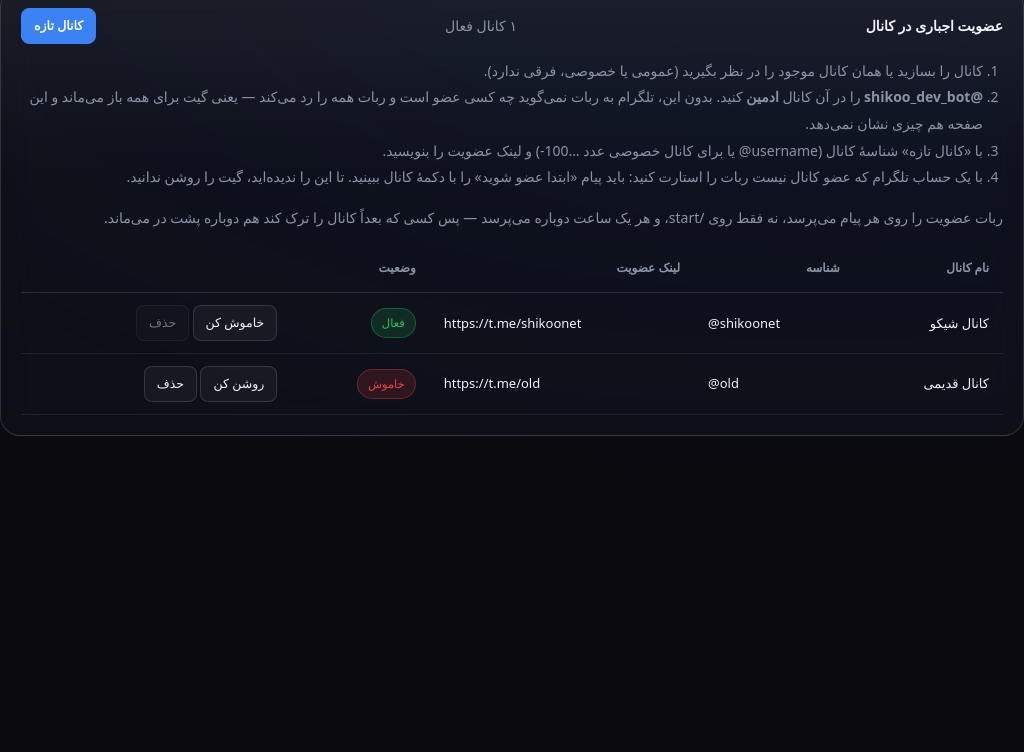
Test: عضویت اجباری در کانال › adds a channel only with a shape Telegram accepts
Check: the text "کانال شیکو" is shown, box [854,293,1003,353]
Click the button "کانال تازه" at (59, 26), box [21,8,96,44]
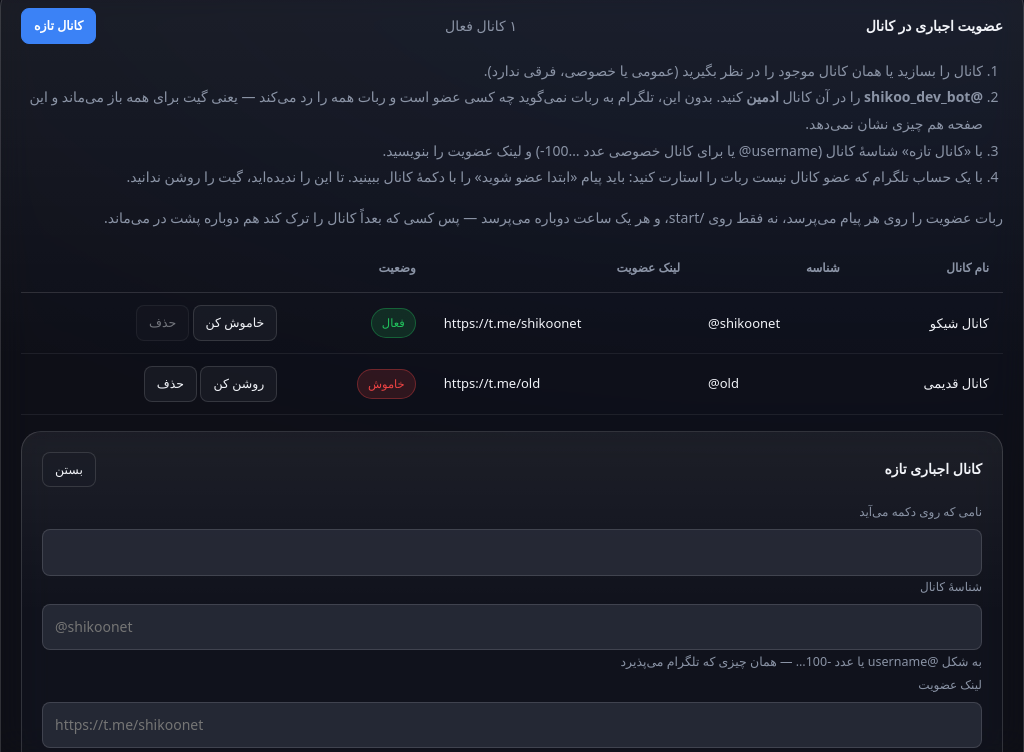
Type "کانال ما" into the field labelled "نامی که روی دکمه می‌آید" at (512, 552), box [42,529,982,576]
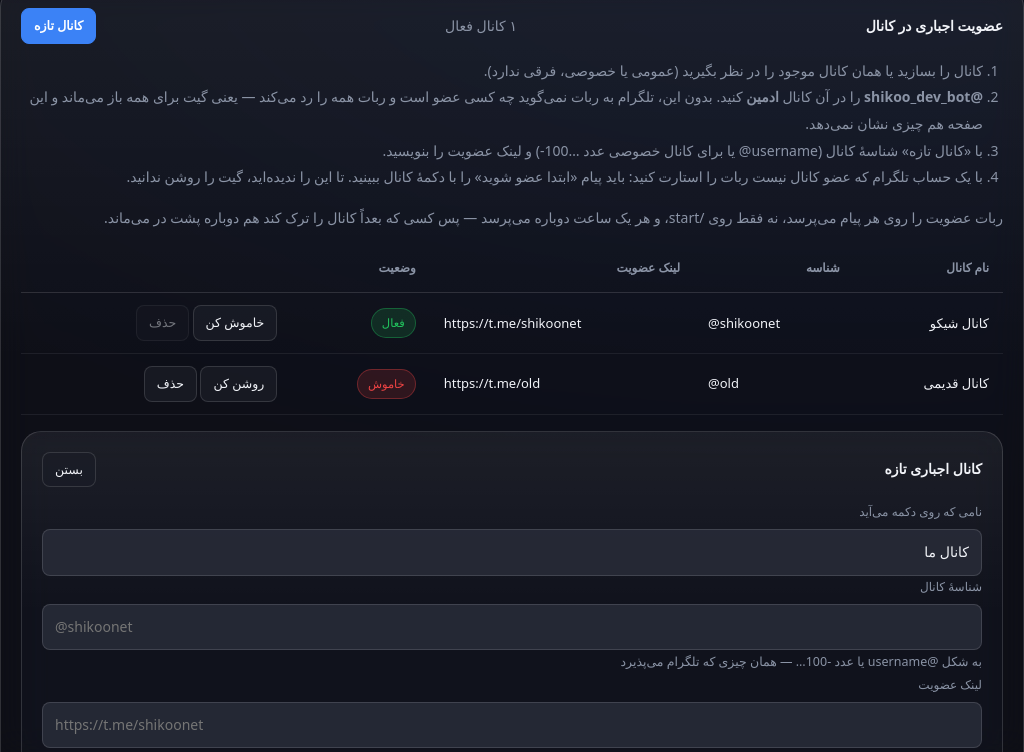
Type "https://t.me/ours" into the field labelled "لینک عضویت" at (512, 725), box [42,702,982,748]
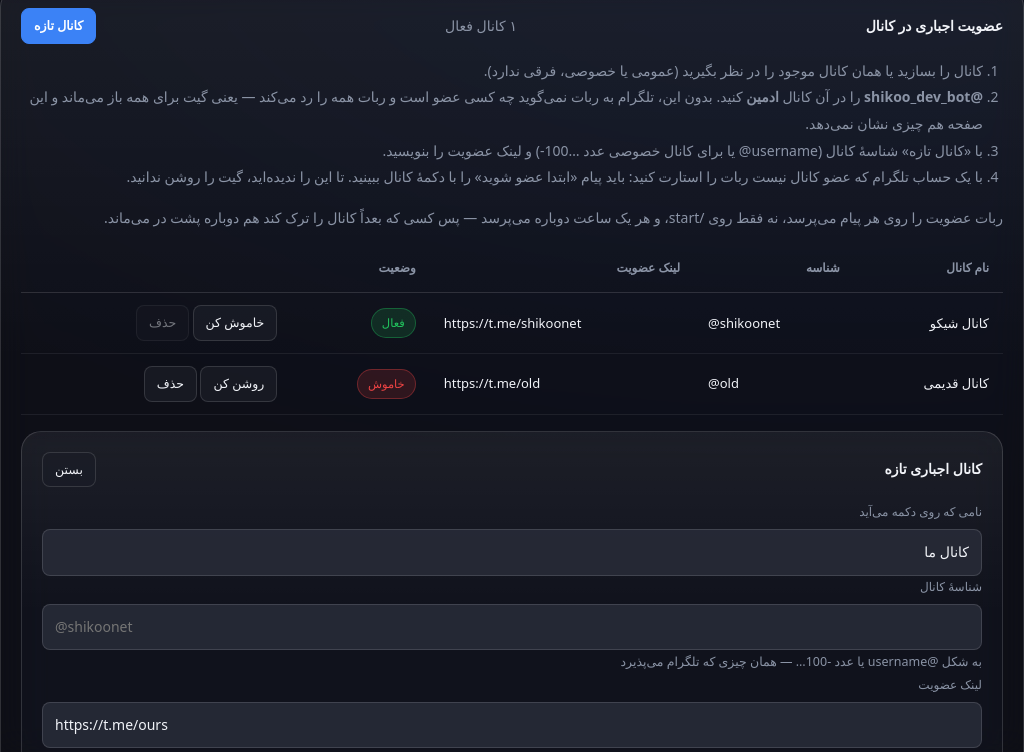
Type "https://t.me/ours" into the field labelled "شناسهٔ کانال" at (512, 627), box [42,604,982,650]
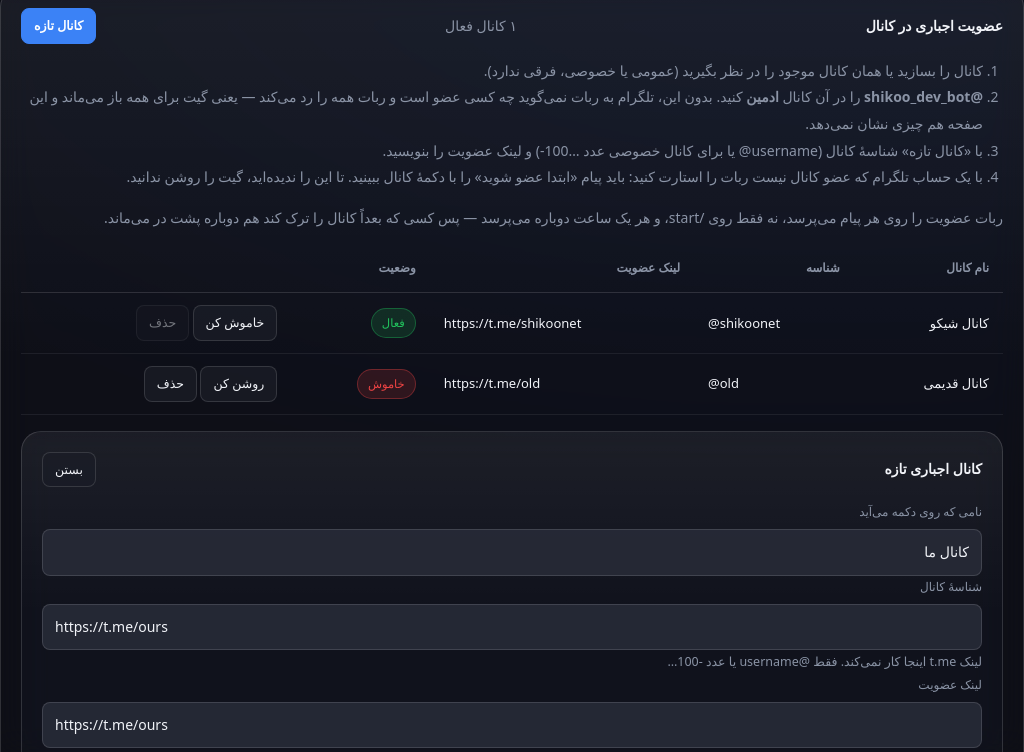
Check: the text "لینک t.me اینجا کار نمی‌کند. فقط @username یا عدد -100…" is shown, box [667,653,982,670]
Replace the text in the field labelled "شناسهٔ کانال" with "@ours" at (512, 627), box [42,604,982,650]
(page scrolled)
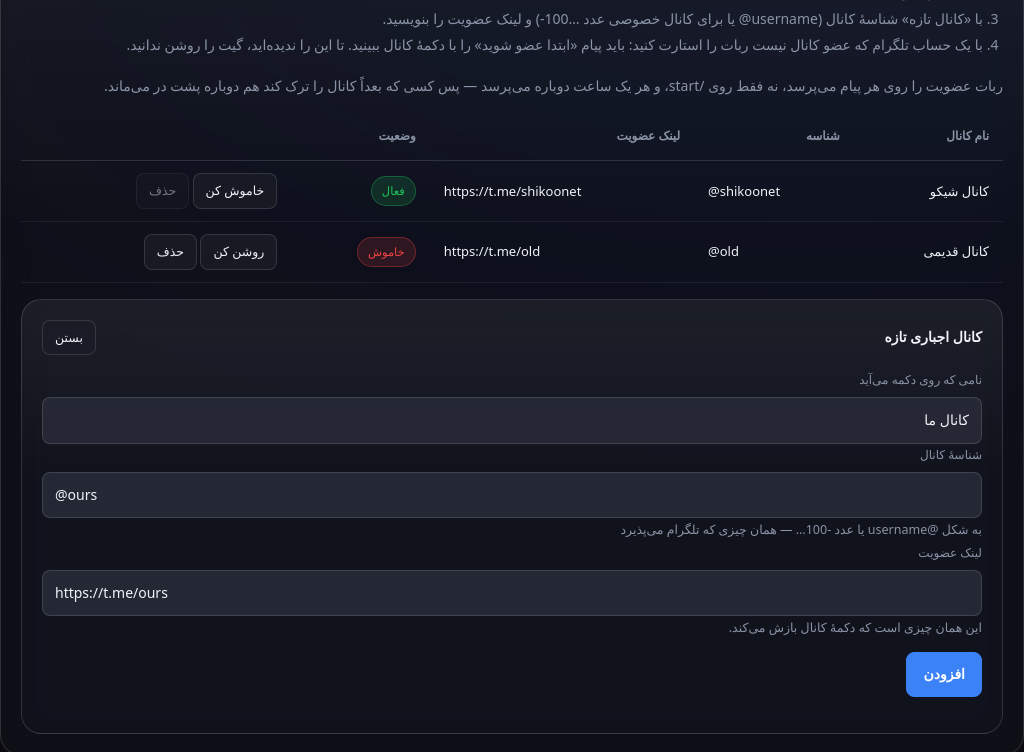
Click the button "افزودن" at (944, 674), box [906,652,982,697]
(page scrolled)
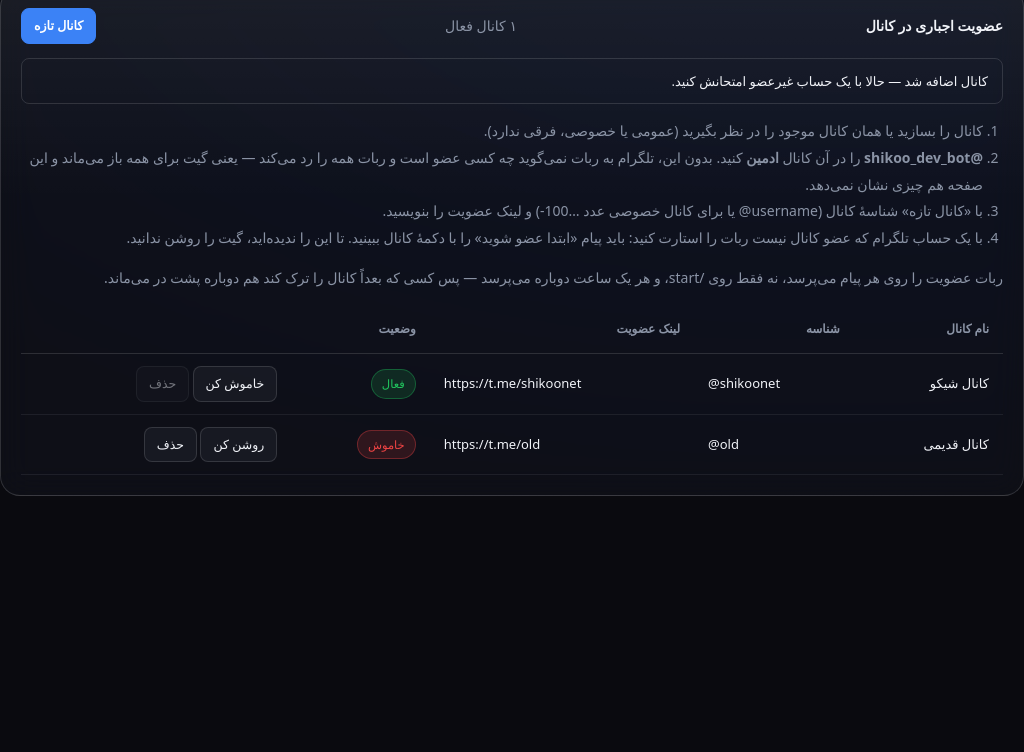
Check: the text "کانال اضافه شد — حالا با یک حساب غیرعضو امتحانش کنید." is shown, box [21,58,1003,104]
